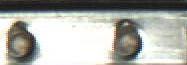joints: (1, 18, 41, 63)
press: (74, 16, 187, 65)
